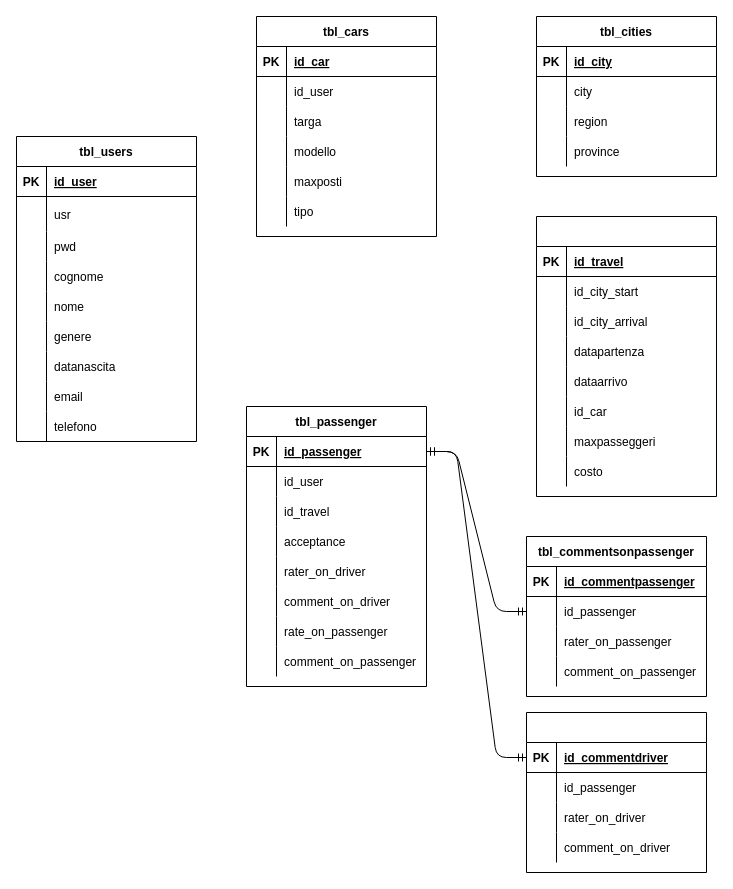
Some shapes in this 733 by 889 pixel diagram are drawn without their labels. The box of each missing label's shape, as (x1, y1, x2, y2) in pixels:
tbl_commentsondriver: (526, 712, 706, 872)
tbl_travels: (536, 216, 716, 496)
